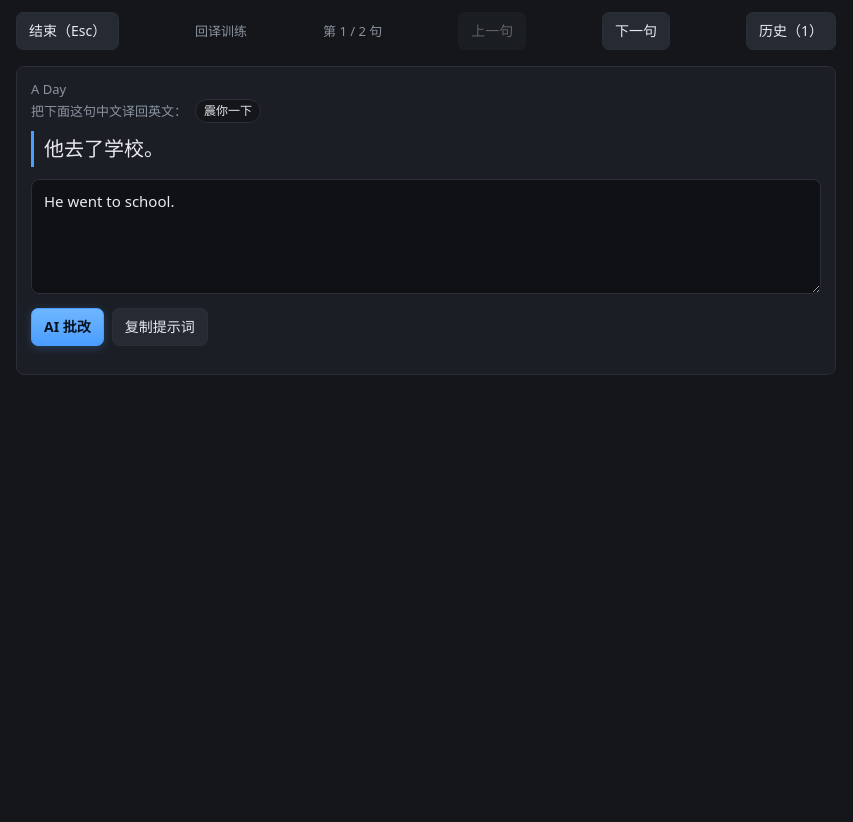
it: BackTranslatePanel › 历史可切换本篇/全部，点开看完整存档
Click the button "历史（1）" at (791, 31), box 746,12 -> 836,50
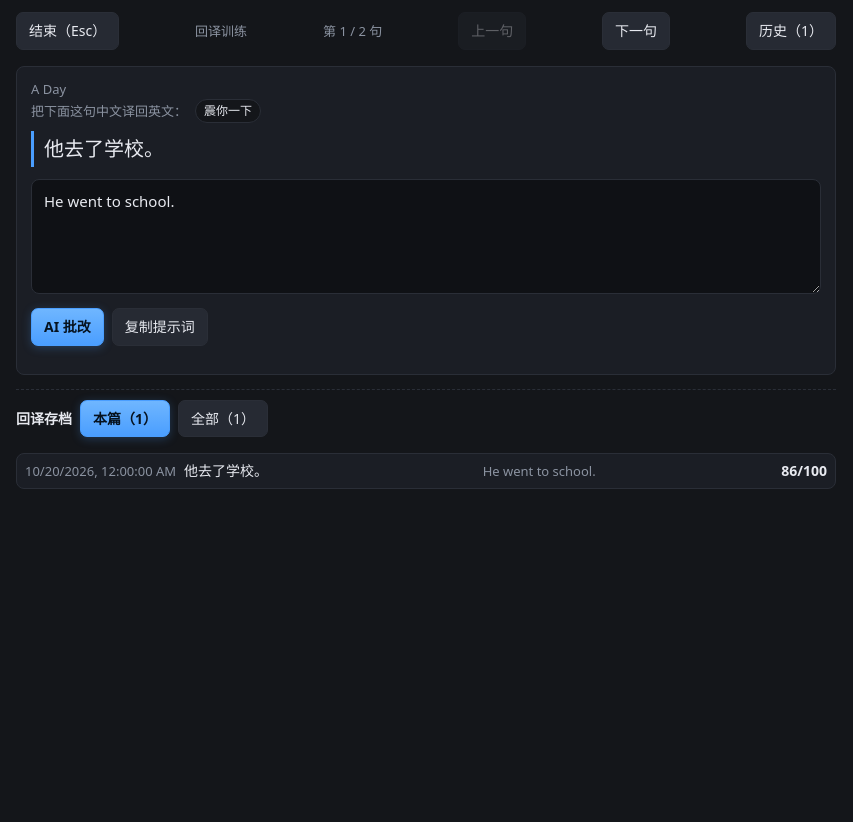
Result: the text "回译存档" is shown at 16,408 -> 72,430
Result: the button "全部（1）" is shown at 178,400 -> 268,438
Click the button "10/20/2026, 12:00:00 AM 他去了学校。 He went to school. 86/100" at (101, 471), box 16,454 -> 836,489
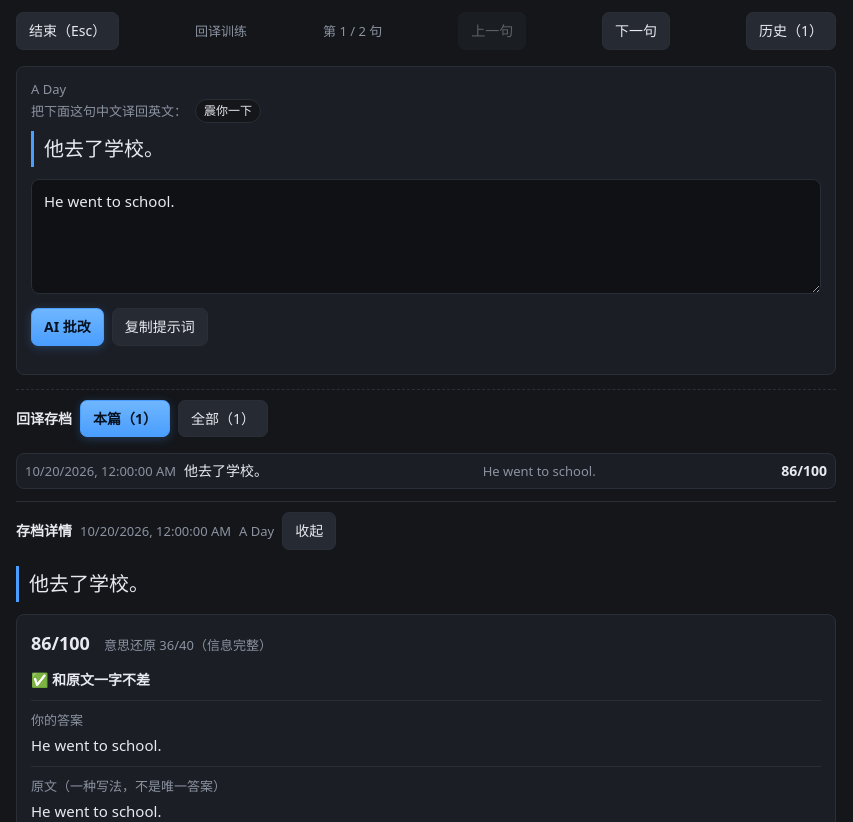
Result: the text "存档详情" is shown at 16,520 -> 72,542
